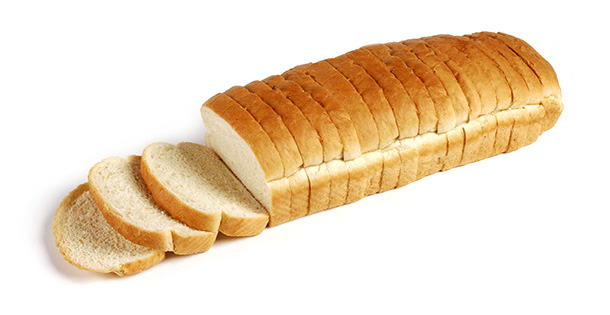slice of bread: (27, 44, 567, 284), (40, 143, 260, 291), (143, 138, 264, 238)
